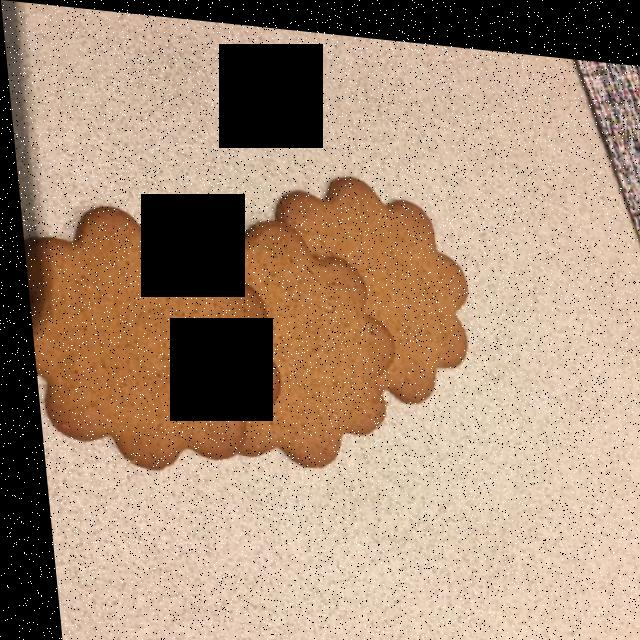biscuits: (34, 173, 459, 460)
